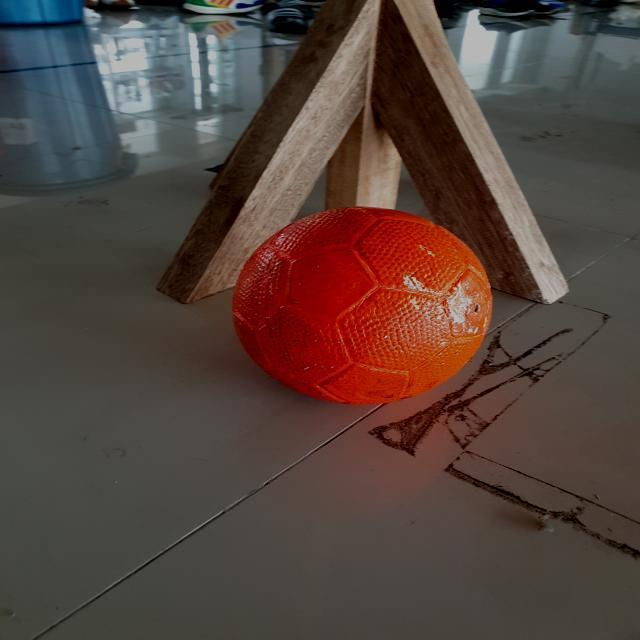bola: (166, 186, 542, 430)
